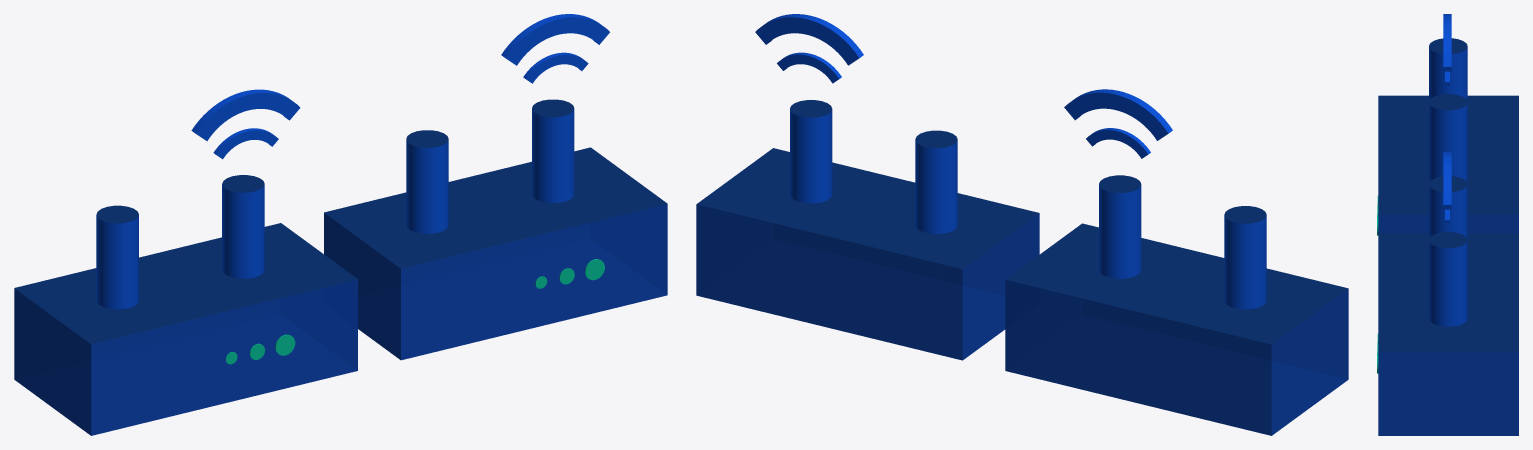
The model's file is internat.FBX.
The picture shows the model from 3 angles, left to right: view 1: azimuth 30°, elevation 25°; view 2: azimuth 150°, elevation 25°; view 3: azimuth 270°, elevation 25°; orthographic projection. The views are drawn at different scales.
Parts seen in each view (by area): view 1: Box277, Box278, 对象418, 对象415, Cylinder038, Cylinder042, Cylinder043, Cylinder047, Arc003, Arc005, Arc006, Arc004 (+4 smaller); view 2: Box277, Box278, 对象418, 对象415, Cylinder038, Cylinder047, Cylinder042, Cylinder043, Arc003, Arc005, Arc006, Arc004 (+4 smaller); view 3: 对象418, 对象415, Box278, Cylinder047, Cylinder042, Box277, Cylinder038, Cylinder043, Arc003, Arc005, 对象413, 对象416 (+2 smaller).
Part boxes in pixels (<box>): Box277: <box>14,279,357,435</box>; Box278: <box>324,204,667,360</box>; 对象418: <box>324,147,667,268</box>; 对象415: <box>14,223,357,344</box>; Cylinder038: <box>96,215,138,309</box>; Cylinder042: <box>222,184,264,278</box>; Cylinder043: <box>406,140,448,233</box>; Cylinder047: <box>532,109,574,202</box>; Arc003: <box>191,89,300,140</box>; Arc005: <box>501,14,609,65</box>; Arc006: <box>523,52,588,83</box>; Arc004: <box>213,128,278,159</box>; Box277: <box>1005,279,1348,435</box>; Box278: <box>696,204,1039,360</box>; 对象418: <box>697,148,1038,268</box>; 对象415: <box>1006,223,1347,344</box>; Cylinder038: <box>1224,215,1266,309</box>; Cylinder047: <box>790,109,832,203</box>; Cylinder042: <box>1099,185,1141,278</box>; Cylinder043: <box>915,140,957,233</box>; Arc003: <box>1064,89,1172,140</box>; Arc005: <box>755,14,863,65</box>; Arc006: <box>777,52,841,83</box>; Arc004: <box>1086,128,1150,158</box>; 对象418: <box>1378,233,1518,352</box>; 对象415: <box>1378,95,1518,214</box>; Box278: <box>1378,352,1518,435</box>; Cylinder047: <box>1429,241,1467,326</box>; Cylinder042: <box>1429,103,1467,181</box>; Box277: <box>1378,214,1518,233</box>; Cylinder038: <box>1429,47,1467,101</box>; Cylinder043: <box>1429,185,1467,238</box>; Arc003: <box>1443,14,1451,71</box>; Arc005: <box>1443,152,1451,209</box>; 对象413: <box>1429,94,1467,110</box>; 对象416: <box>1429,232,1467,248</box>.
Size of the model in its own units: 1452 by 645 by 339.
